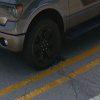Car: (1, 2, 98, 72)
